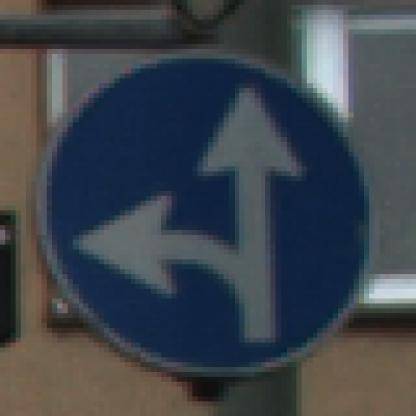Straight or Left: (38, 35, 381, 378)
